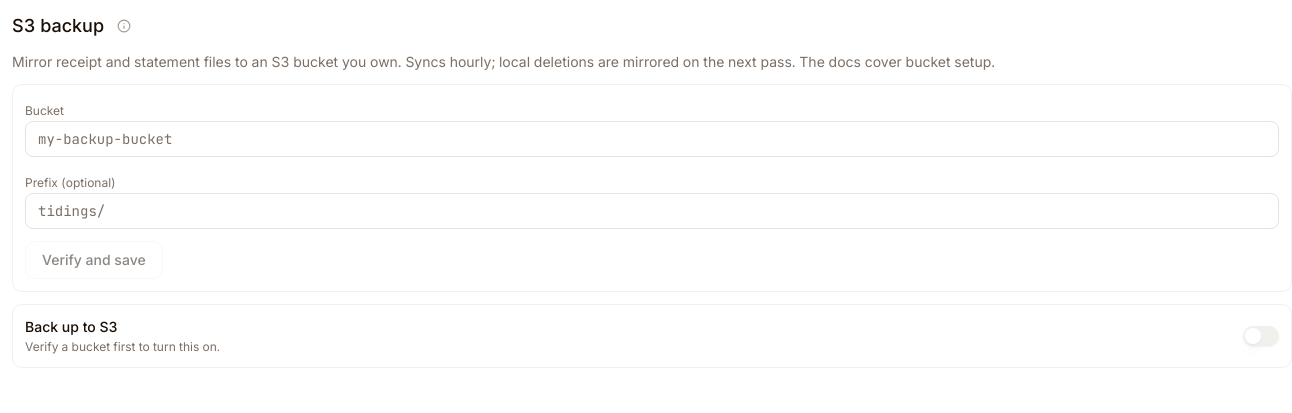
it: S3BackupSection › verifies, saves the trimmed values, and lists advisory warnings
In the field labelled "Bucket": (652, 139) [25,121,1279,157], type "  my-bucket  "
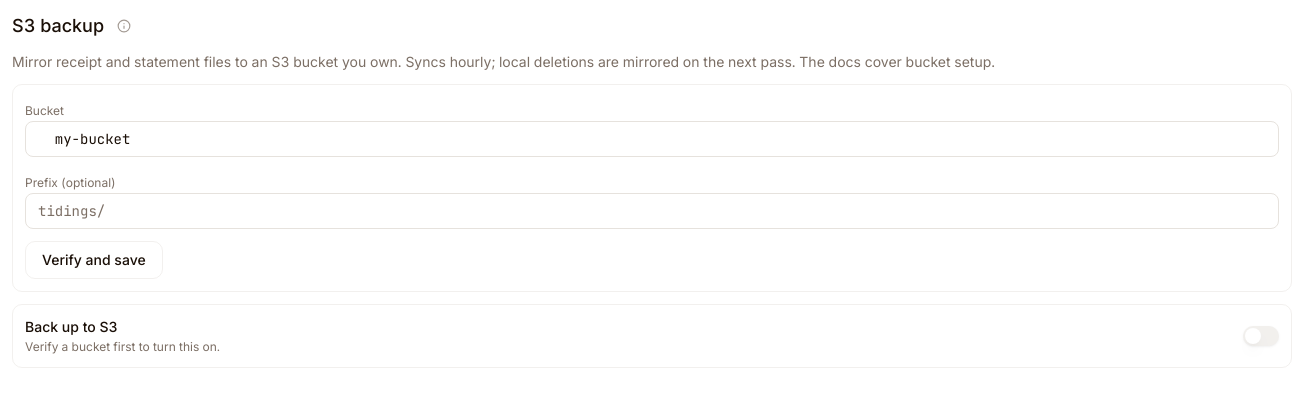
In the field labelled "Prefix (optional)": (652, 211) [25,193,1279,229], type "  tidings/  "
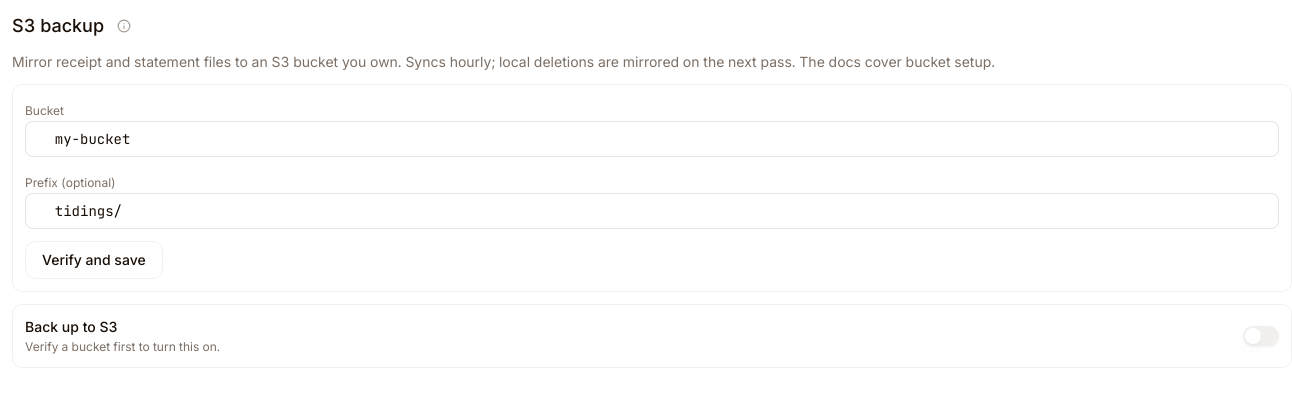
Click the button "Verify and save": (94, 260) [25,241,163,279]
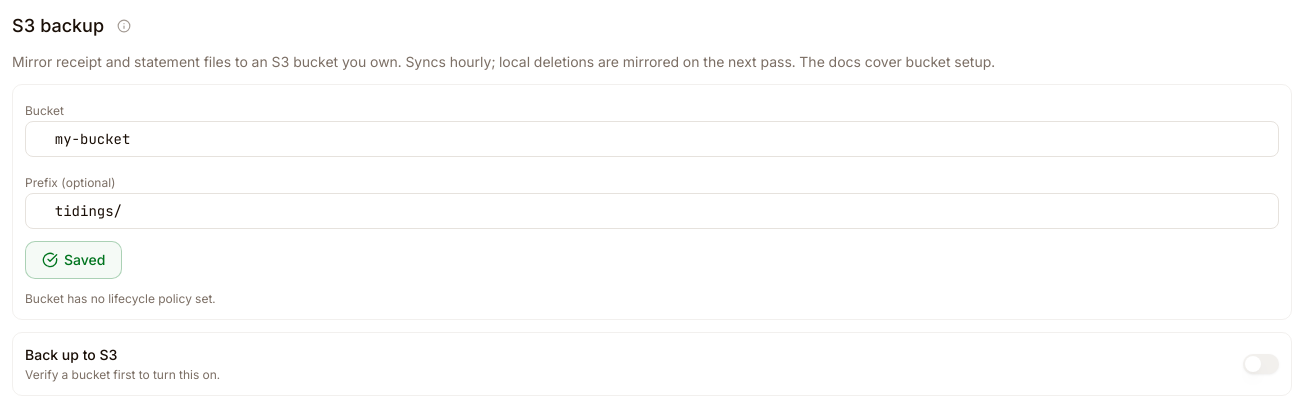
expect the list item "Bucket has no lifecycle policy set." is shown: met, box [25,291,216,306]
expect the button "Saved" is shown: met, box [25,241,122,279]
